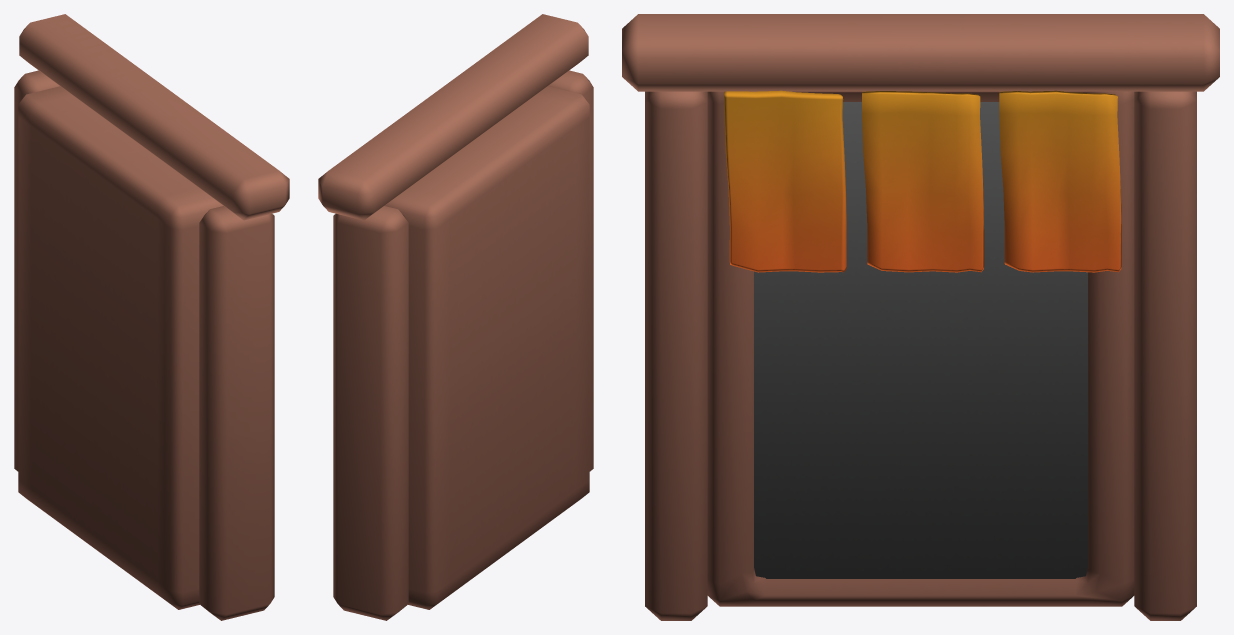
File: SM_Wood_Door_07.fbx
3 renders of one model, left to right at view 1: azimuth 30°, elevation 25°; view 2: azimuth 150°, elevation 25°; view 3: azimuth 270°, elevation 25°, orthographic. The views are drawn at different scales.
Visible parts, largest first — view 1: SM_Wood_Door_07; view 2: SM_Wood_Door_07; view 3: SM_Wood_Door_07.
Part boxes in pixels (left/top/right/bottom): SM_Wood_Door_07: left=14, top=14, right=289, bottom=620; SM_Wood_Door_07: left=318, top=14, right=593, bottom=620; SM_Wood_Door_07: left=622, top=14, right=1219, bottom=620.
Size of the model in its own units: 0.1269 by 0.5788 by 0.5328.
